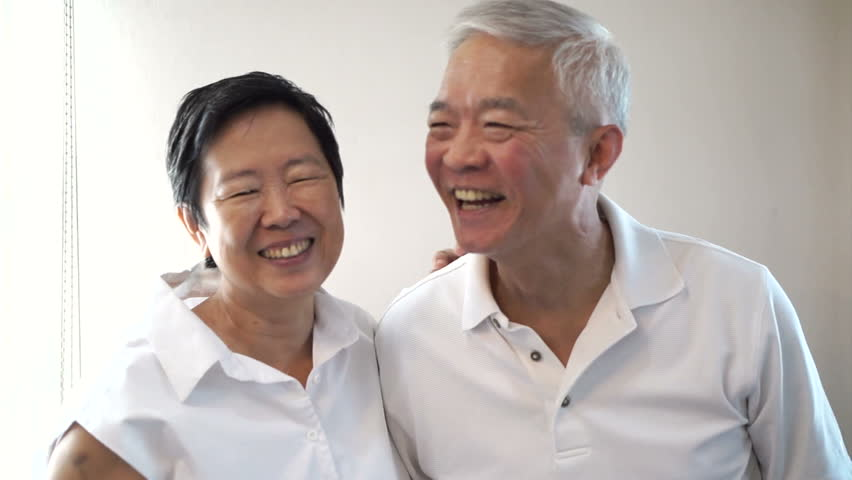smile: (428, 38, 562, 262), (198, 112, 346, 291)
